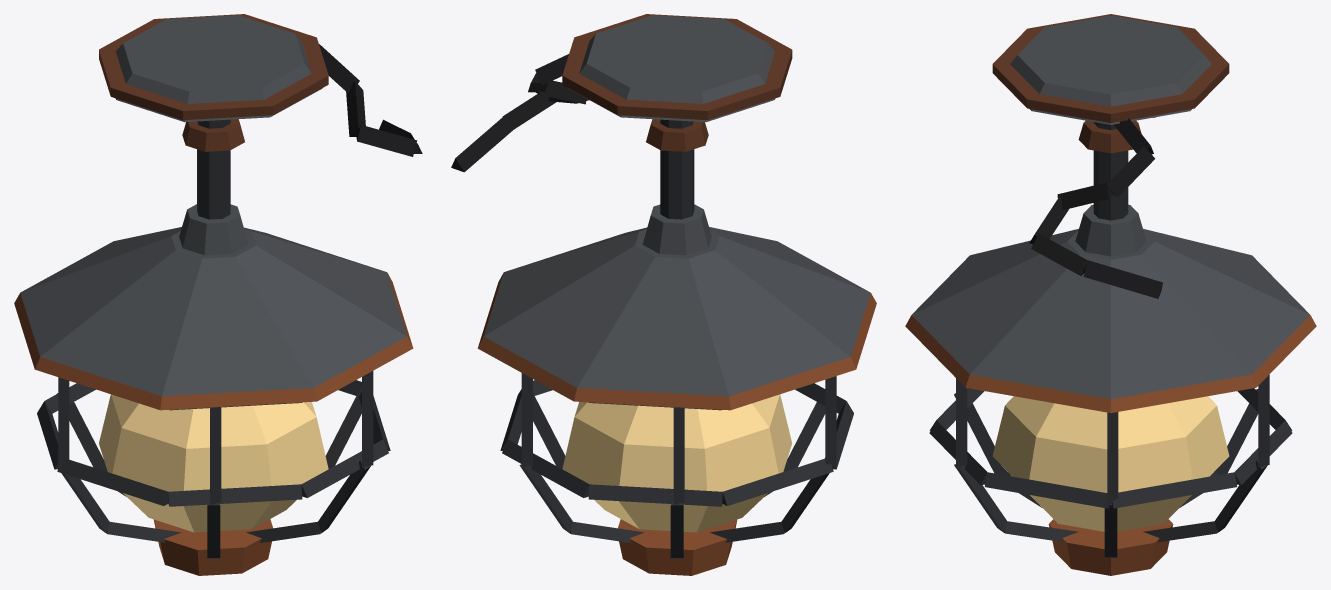
File: piece_light_ceiling.fbx
3 views of the same model, side by side, from view 1: azimuth 30°, elevation 25°; view 2: azimuth 150°, elevation 25°; view 3: azimuth 270°, elevation 25° (orthographic).
Visible parts, largest first — view 1: piece_light_ceiling; view 2: piece_light_ceiling; view 3: piece_light_ceiling.
Boxes of the visible parts, <box> form: piece_light_ceiling: <box>14,14,422,575</box>; piece_light_ceiling: <box>451,14,876,575</box>; piece_light_ceiling: <box>905,14,1316,575</box>.
Bounding box in the file's own units: 0.3517 × 0.45 × 0.33.
